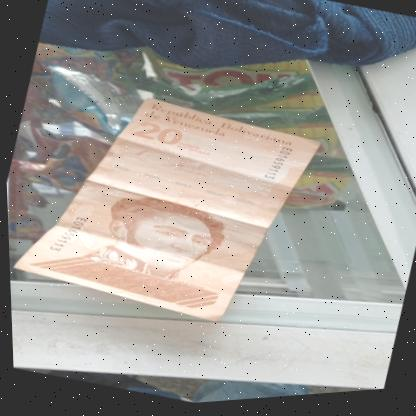twenty-front-vef: (2, 62, 329, 353)
